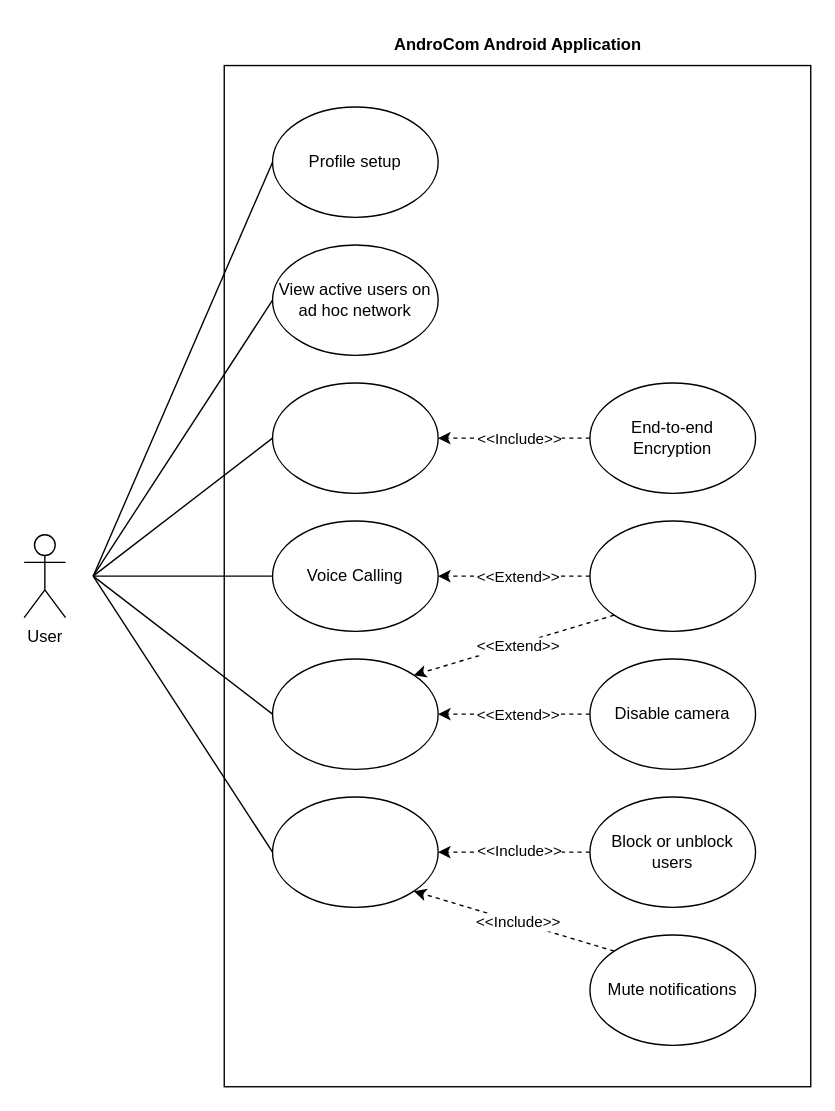
The diagram is 835 pixels wide and 1111 high, and some of its shapes have lost their labels. Each missing label, with the centre of its shape:
"Mute mic" belongs at point (672, 575).
"Settings" belongs at point (354, 851).
"Text messaging" belongs at point (354, 437).
"Video Calling" belongs at point (354, 713).
